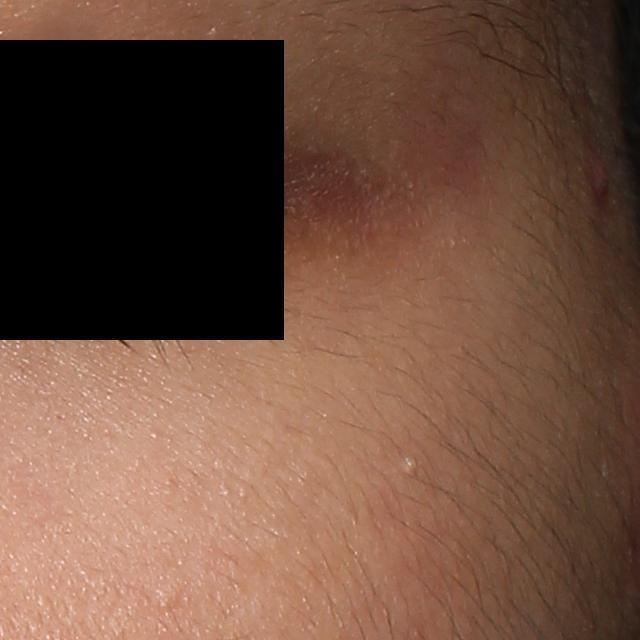comedo: (157, 591, 183, 615), (403, 454, 422, 476)
papule: (582, 142, 619, 204)
